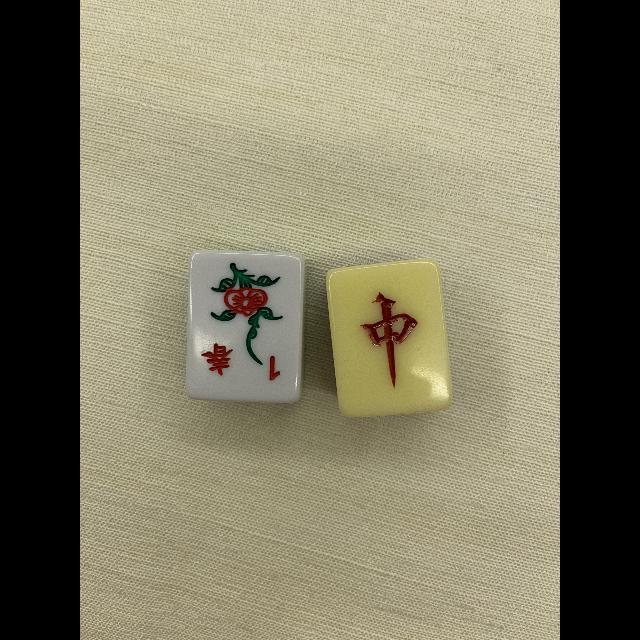dr: (334, 268, 446, 412)
s1: (190, 336, 298, 400)
